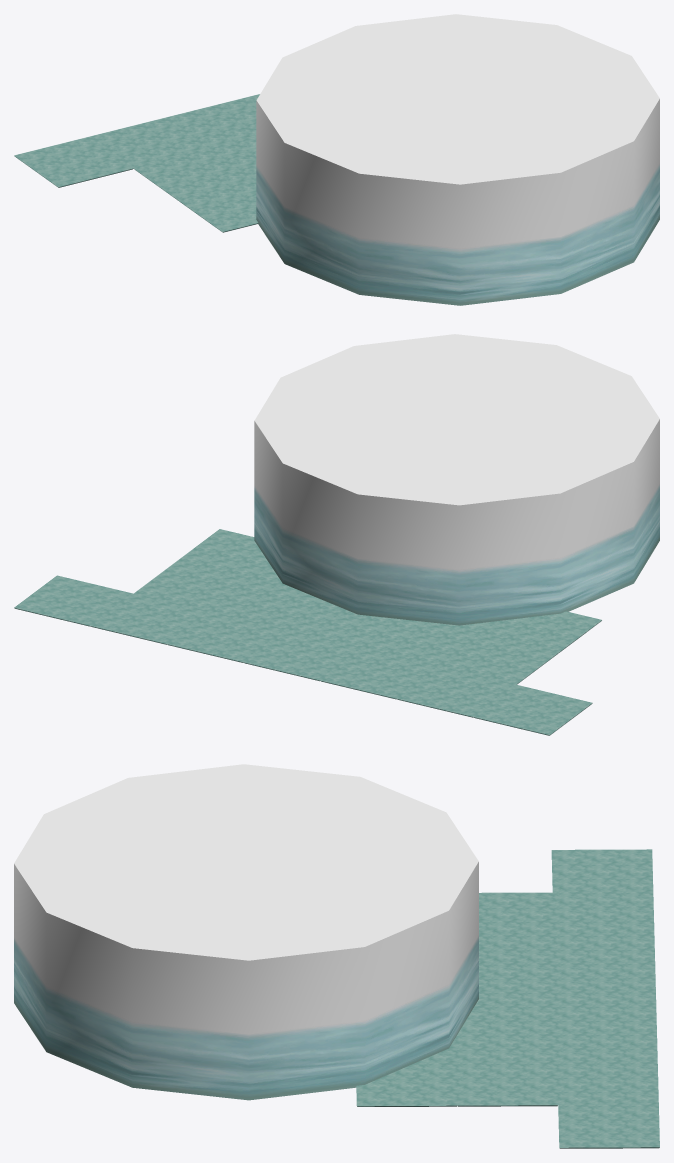
Rendered from hyperbolic_time_chamber_cdb861.fbx.
3 renders of one model, top to bottom at view 1: azimuth 30°, elevation 25°; view 2: azimuth 150°, elevation 25°; view 3: azimuth 270°, elevation 25°, orthographic. The views are drawn at different scales.
Parts seen in each view (by area): view 1: hyperbolic_time_chamber_cdb861; view 2: hyperbolic_time_chamber_cdb861; view 3: hyperbolic_time_chamber_cdb861.
Part boxes in pixels (bbox=[...]): hyperbolic_time_chamber_cdb861: bbox=[14, 14, 659, 305]; hyperbolic_time_chamber_cdb861: bbox=[14, 334, 659, 735]; hyperbolic_time_chamber_cdb861: bbox=[14, 764, 659, 1148].
Bounding box in the file's own units: 20 × 4.37 × 18.3.
13 materials, 13 textured.
